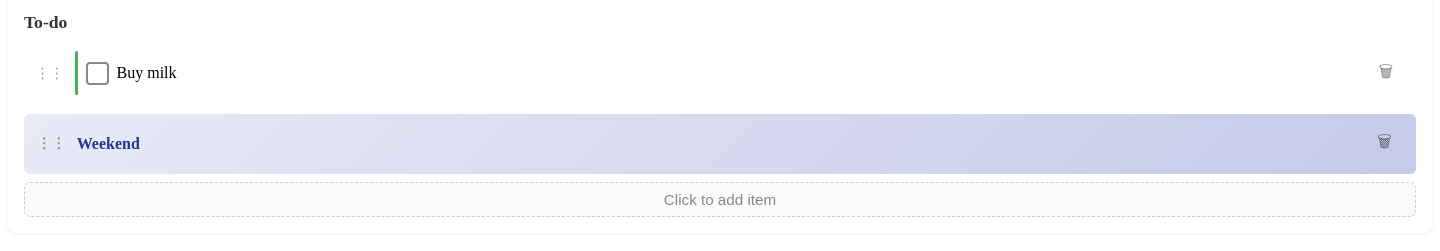
Scenario: TodoList delete flow › does not delete on the first trash tap
Expected: the button "Buy milk" is shown, [116,64,176,81]
What coordinates should you click on to do the following:
click the button named "Delete"
I would click on:
 (1386, 73)
Its box is [1364,51,1408,95].
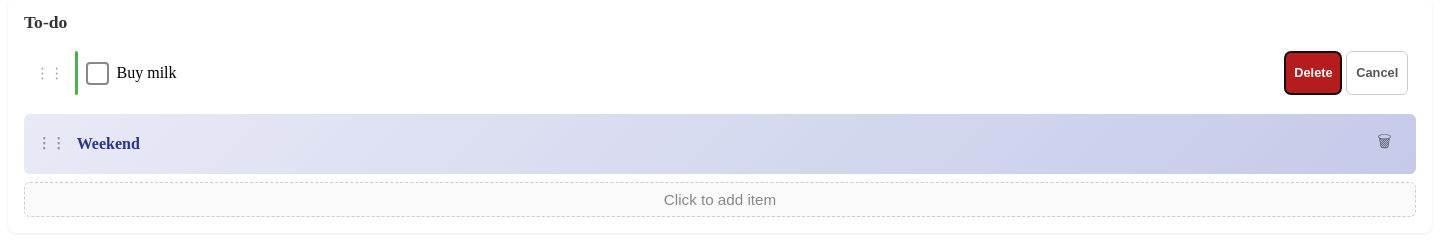
Expected: the button "Buy milk" is shown, [116,64,176,81]
Result: the button with aria-label "Confirm delete" is shown at [1284,51,1342,95]
